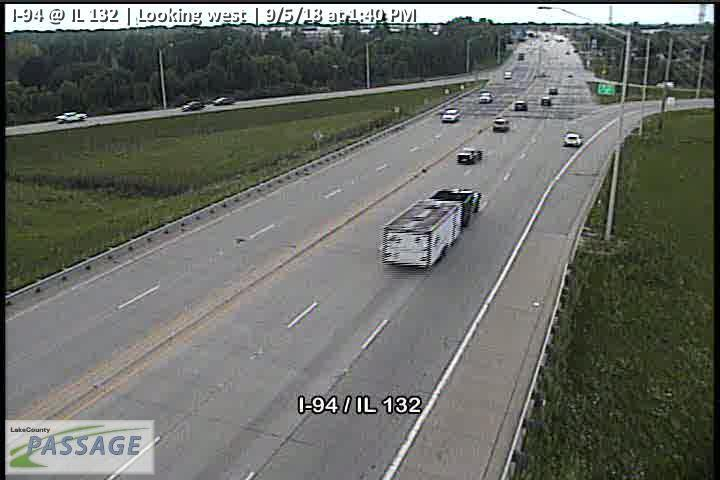Sedan: (457, 149, 482, 165), (563, 132, 580, 145), (441, 108, 459, 120), (492, 118, 508, 131), (512, 100, 527, 111)
Truck: (379, 185, 481, 267)
